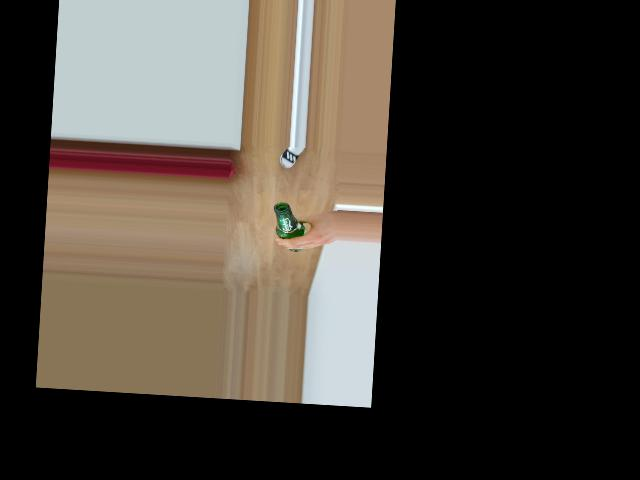beer: (270, 201, 307, 251)
